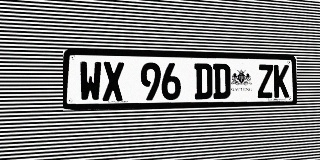6: (161, 63, 181, 100)
9: (141, 62, 161, 100)
D: (194, 63, 212, 99), (213, 63, 230, 99)
K: (274, 65, 289, 98)
W: (79, 61, 102, 102)
X: (102, 62, 124, 101)
Z: (257, 64, 273, 98)
